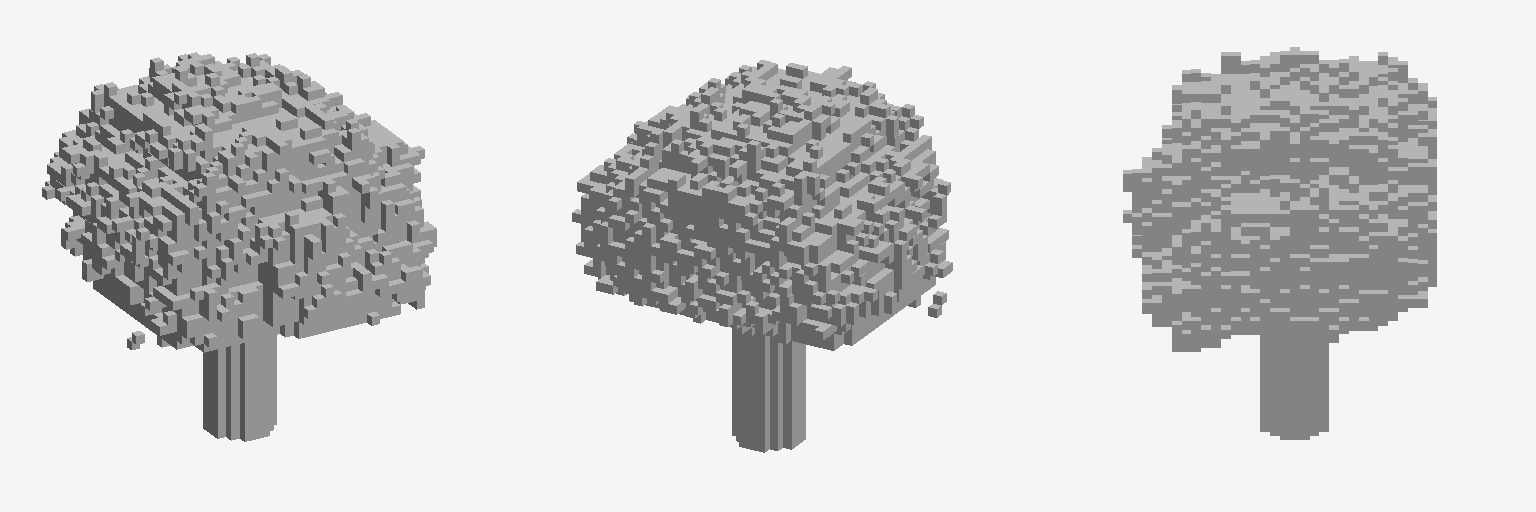
The model's file is tree.obj.
The picture shows the model from 3 angles: view 1: azimuth 30°, elevation 25°; view 2: azimuth 150°, elevation 25°; view 3: azimuth 270°, elevation 25°; orthographic projection.
Visible parts, largest first — view 1: object 1; view 2: object 1; view 3: object 1.
Boxes of the visible parts, box(x1,y1,x2,y2) form: object 1: box(42, 52, 436, 441); object 1: box(572, 60, 952, 452); object 1: box(1123, 47, 1436, 439).
Size of the model in its own units: 3.5 by 3.9 by 3.2.